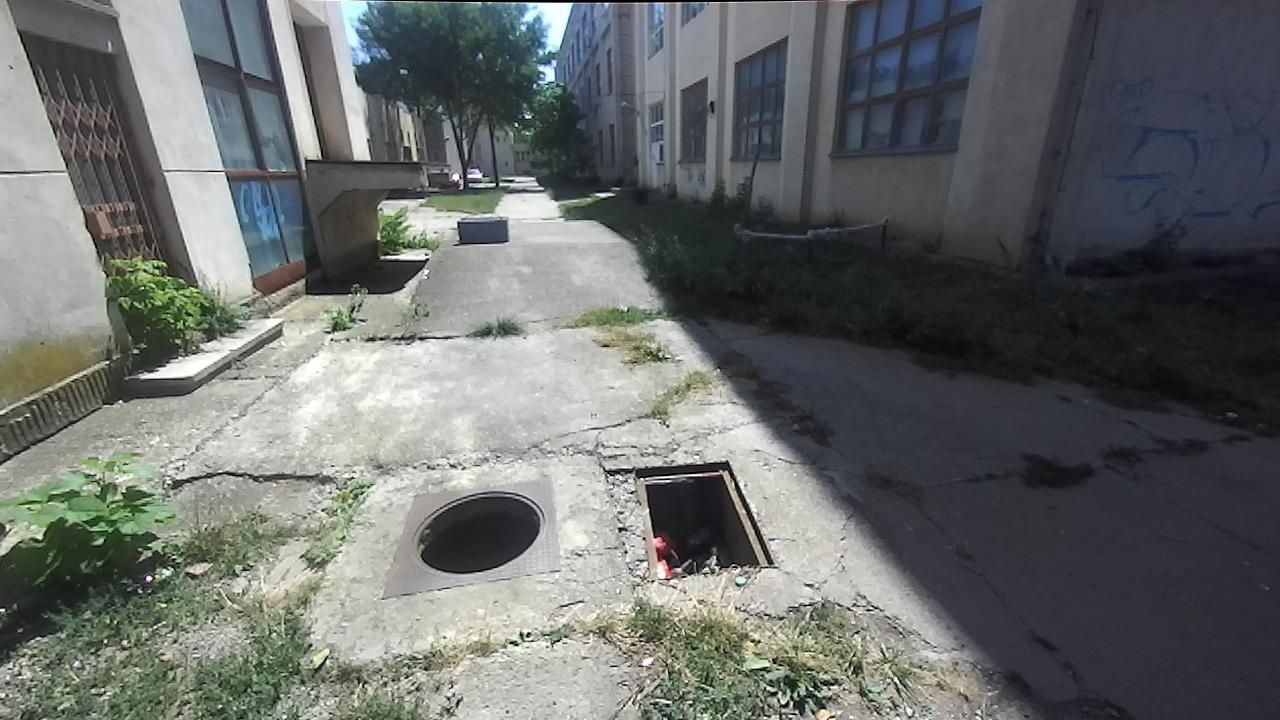drain: (608, 456, 780, 577), (403, 487, 543, 572)
